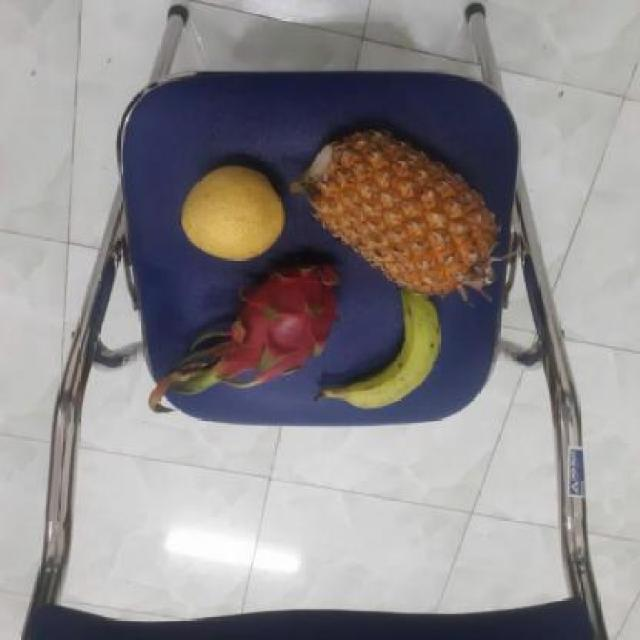banana: (335, 283, 447, 412)
dragon fruit: (219, 256, 344, 382)
pear: (176, 167, 290, 262)
pineapple: (303, 129, 503, 296)
